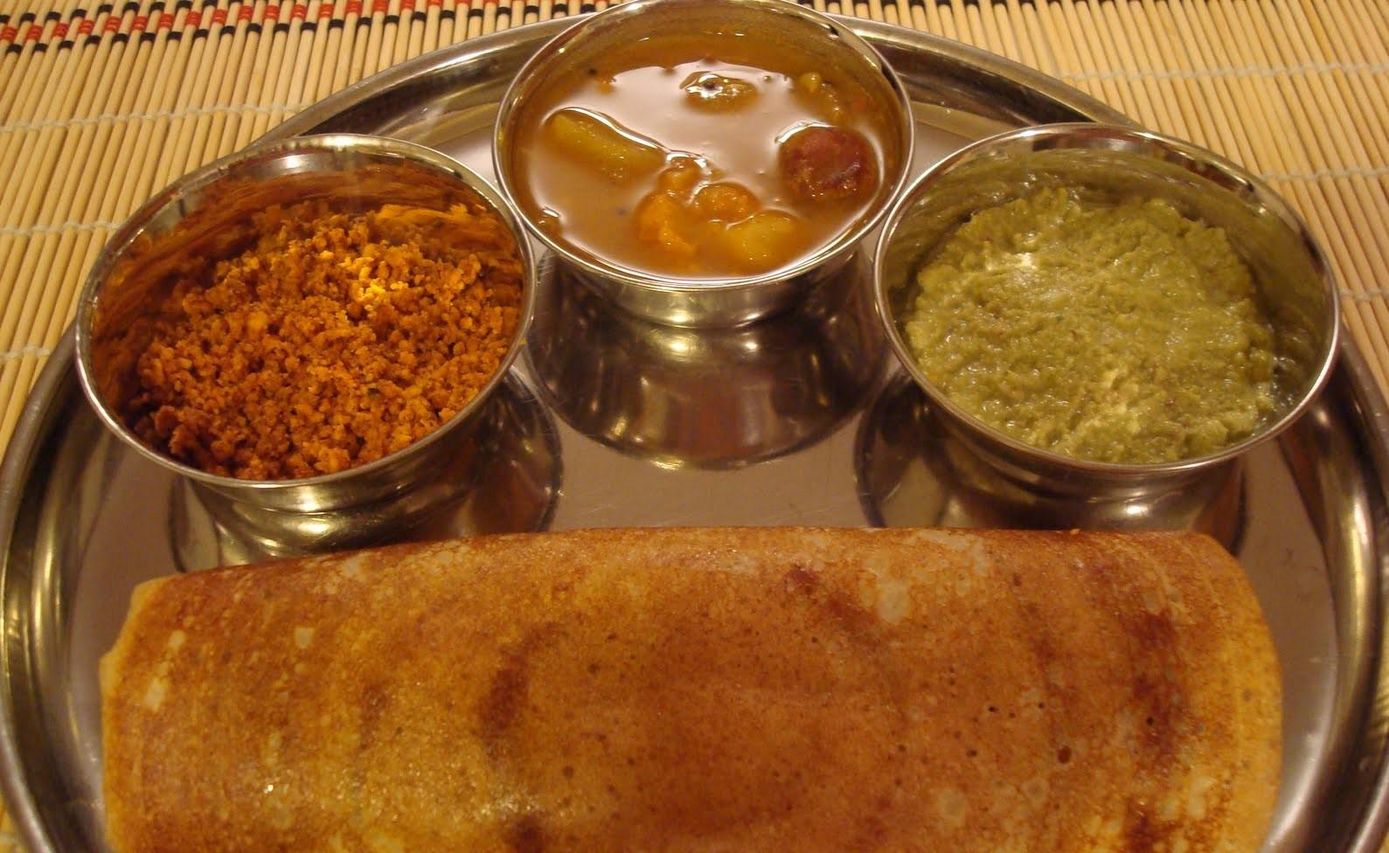Dosa: (97, 520, 1290, 853)
